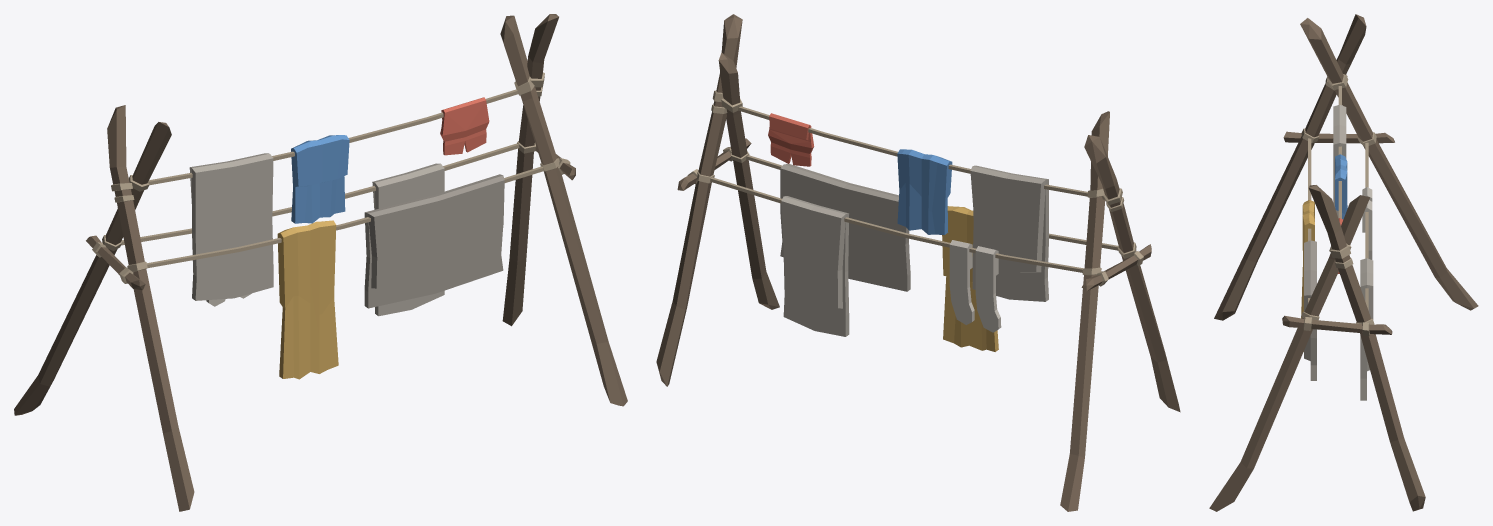
Rendered from SM_Prop_WashingLine_01.glb.
3 views of the same model, side by side, from view 1: azimuth 30°, elevation 25°; view 2: azimuth 150°, elevation 25°; view 3: azimuth 270°, elevation 25° (orthographic). The views are drawn at different scales.
Parts seen in each view (by area): view 1: SM_Prop_WashingLine_01; view 2: SM_Prop_WashingLine_01; view 3: SM_Prop_WashingLine_01.
Boxes of the visible parts, left/top/right/bottom form: SM_Prop_WashingLine_01: left=14, top=14, right=627, bottom=511; SM_Prop_WashingLine_01: left=656, top=14, right=1180, bottom=511; SM_Prop_WashingLine_01: left=1209, top=14, right=1478, bottom=511.
Bounding box in the file's own units: 3.53 × 2.52 × 1.92.
Materials: 1 (1 with a texture image).
